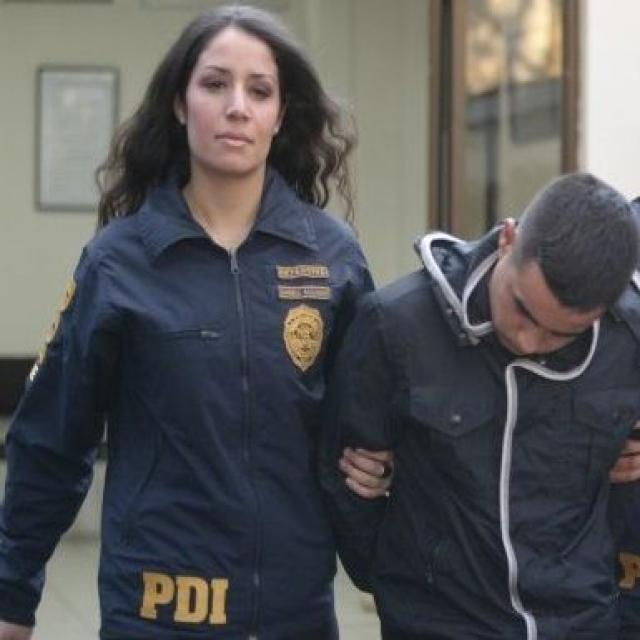9_cabeza_baja: (487, 173, 640, 355)
